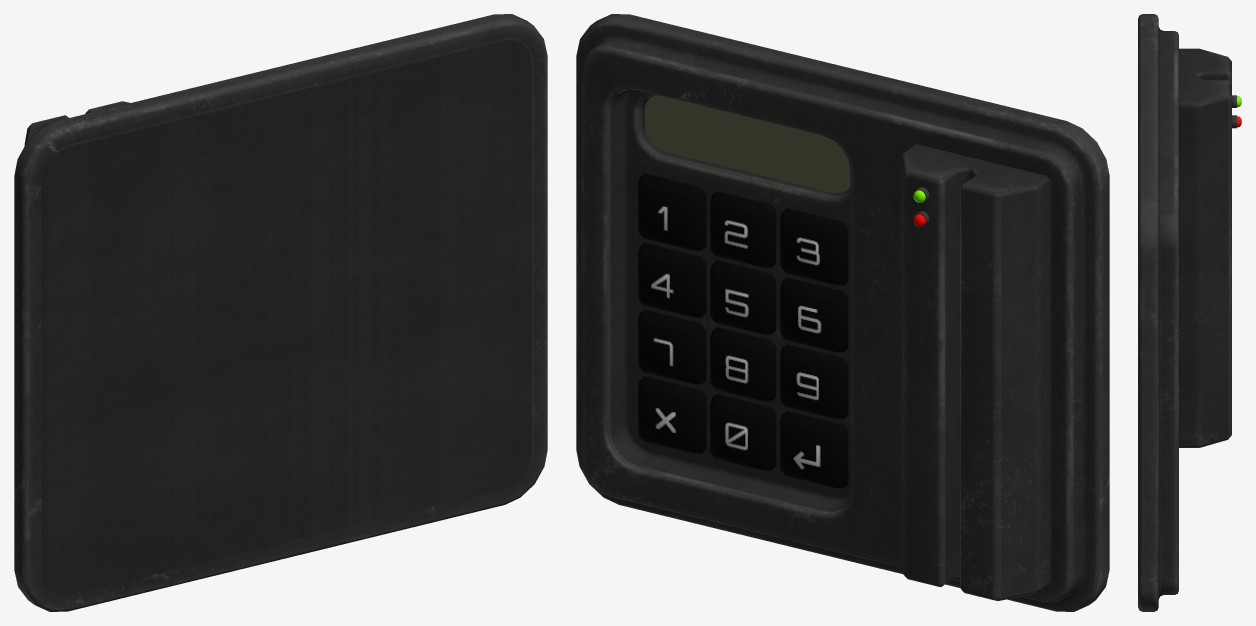
Rendered from card&passcode_lock.fbx.
3 views of the same model, side by side, from view 1: azimuth 30°, elevation 25°; view 2: azimuth 150°, elevation 25°; view 3: azimuth 270°, elevation 25° (orthographic). The views are drawn at different scales.
Visible parts, largest first — view 1: locker; view 2: locker; view 3: locker.
Part boxes in pixels (<box>): locker: <box>14,14,547,611</box>; locker: <box>576,14,1109,611</box>; locker: <box>1138,14,1241,611</box>.
Size of the model in its own units: 2.45 by 2.16 by 0.4949.
